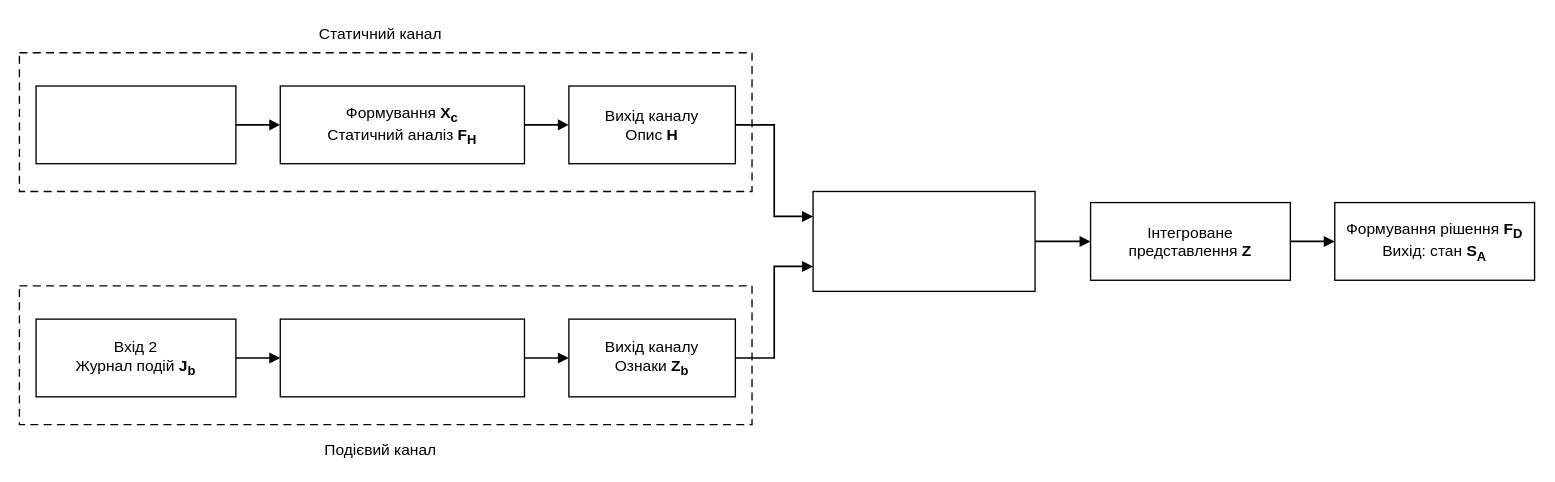
The diagram is 1555 pixels wide and 482 high, and some of its shapes have lost their labels. Each missing label, with the centre of its shape:
"Вхід 1 Об’єкт X mm" belongs at point 135,124.
"Контроль походження та доступності Інтеграція F I" belongs at point 923,240.
"Причинний відбір J b → X b і кодування F b" belongs at point 402,357.
